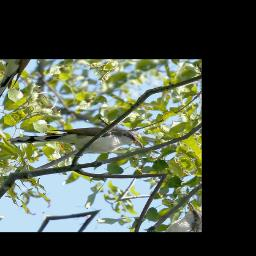Cuckoo: (6, 89, 146, 197)
